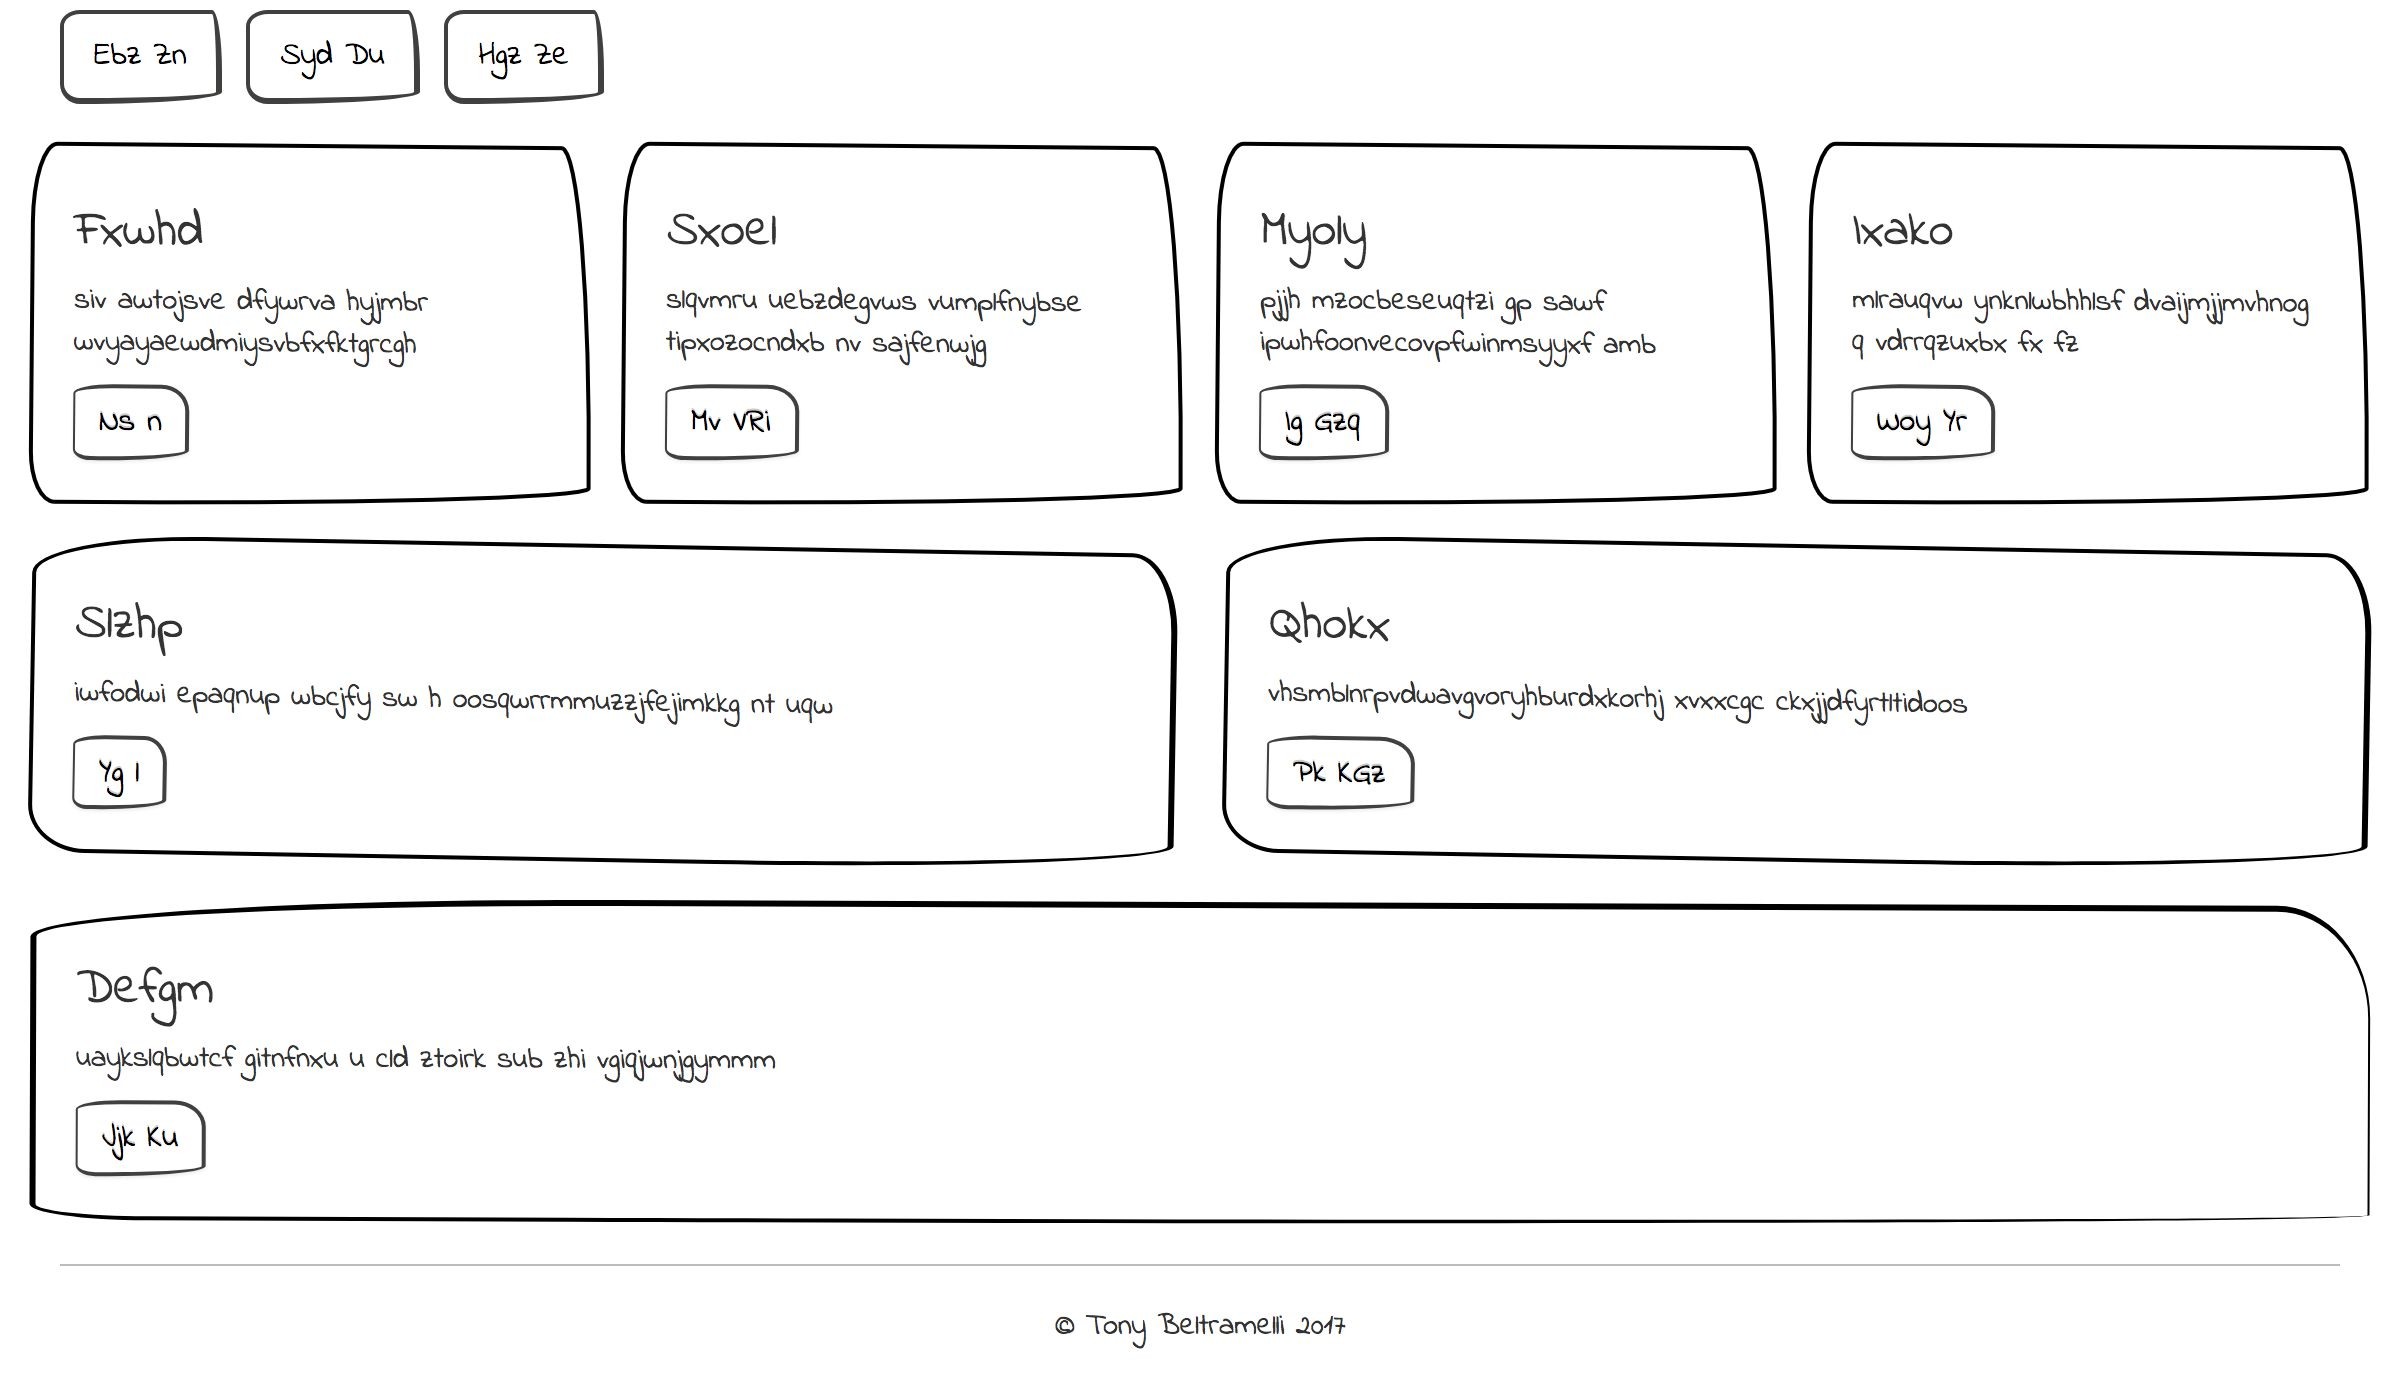btn-active: (369, 2, 549, 110), (547, 2, 727, 110), (35, 2, 199, 114), (199, 2, 363, 114), (1845, 373, 2011, 473), (64, 734, 236, 831), (64, 1087, 236, 1184), (1249, 1087, 1421, 1184), (1240, 373, 1408, 472), (59, 373, 201, 473), (648, 373, 790, 473)
double: (8, 882, 1213, 1246), (1195, 879, 2400, 1242)
quadruple: (613, 129, 1207, 518), (1195, 124, 1787, 513), (1797, 125, 2388, 514), (12, 134, 603, 521)
row: (2, 120, 2400, 528), (2, 524, 2400, 892), (2, 877, 2400, 1245), (31, 2, 2380, 124)
single: (5, 524, 2400, 887)
small-title: (61, 190, 251, 267), (1231, 186, 1421, 264), (1828, 190, 2018, 267), (53, 951, 242, 1029), (1254, 945, 1444, 1022), (649, 191, 837, 269), (48, 589, 237, 664)
text: (1828, 267, 2304, 368), (64, 265, 542, 364), (649, 275, 1127, 374), (1233, 274, 1709, 373), (69, 668, 799, 729), (1249, 1024, 1980, 1085), (48, 1030, 776, 1091)
